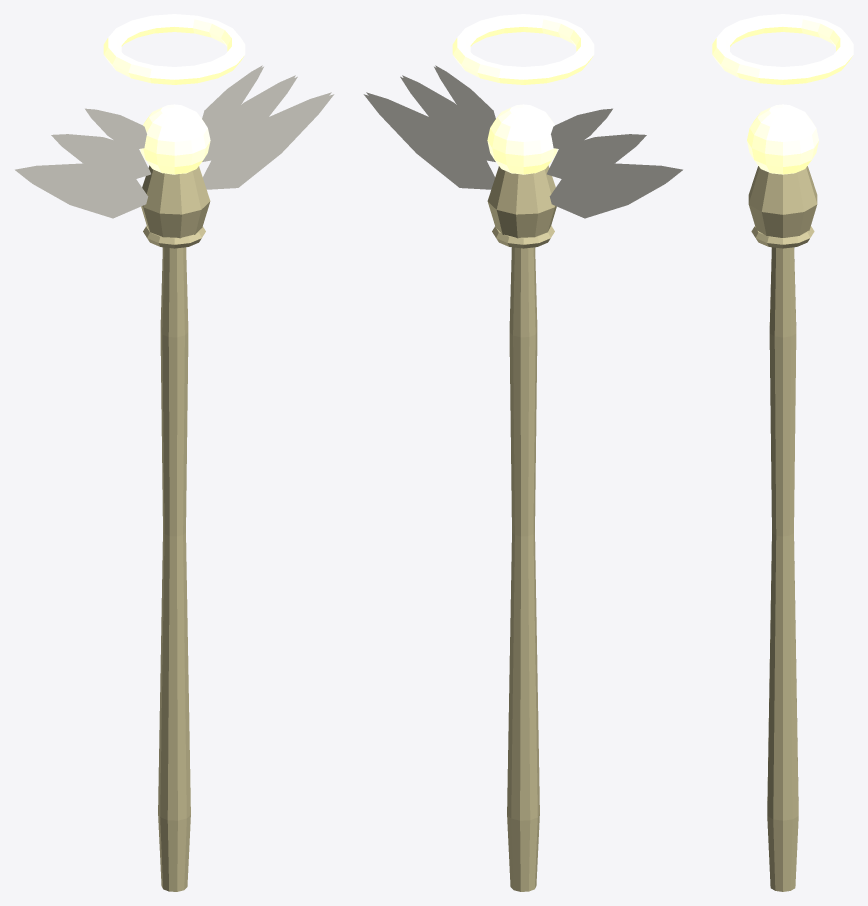
The model's file is staff_angel.glb.
3 views of the same model, side by side, from view 1: azimuth 30°, elevation 25°; view 2: azimuth 150°, elevation 25°; view 3: azimuth 270°, elevation 25° (orthographic).
Visible parts, largest first — view 1: Angel_Shaft, Angel_Halo, Angel_FeatherR0, Angel_FeatherL0, Angel_Cup, Angel_Core, Angel_FeatherL1, Angel_FeatherR1, Angel_FeatherR2, Angel_FeatherL2, Angel_Collar; view 2: Angel_Shaft, Angel_Halo, Angel_FeatherR0, Angel_FeatherL0, Angel_Cup, Angel_Core, Angel_FeatherL1, Angel_FeatherR1, Angel_FeatherR2, Angel_FeatherL2, Angel_Collar; view 3: Angel_Shaft, Angel_Halo, Angel_Cup, Angel_Core, Angel_Collar.
Part boxes in pixels (x1,y1,x2,y2): Angel_Shaft: (158,247,190,891); Angel_Halo: (103,14,245,84); Angel_FeatherR0: (203,92,334,189); Angel_FeatherL0: (15,163,148,218); Angel_Cup: (141,165,210,238); Angel_Core: (140,104,210,174); Angel_FeatherL1: (51,134,150,178); Angel_FeatherR1: (202,75,297,161); Angel_FeatherR2: (202,65,263,131); Angel_FeatherL2: (85,108,146,148); Angel_Collar: (143,225,205,248); Angel_Shaft: (507,247,539,891); Angel_Halo: (452,14,594,84); Angel_FeatherR0: (363,92,494,189); Angel_FeatherL0: (549,163,682,218); Angel_Cup: (487,165,556,238); Angel_Core: (487,104,557,174); Angel_FeatherL1: (547,134,646,178); Angel_FeatherR1: (400,75,495,161); Angel_FeatherR2: (434,65,495,131); Angel_FeatherL2: (551,108,612,148); Angel_Collar: (492,225,554,248); Angel_Shaft: (767,247,798,891); Angel_Halo: (712,14,853,84); Angel_Cup: (748,166,817,237); Angel_Core: (747,104,818,174); Angel_Collar: (751,226,814,248).
Size of the model in its own units: 0.7307 by 1.86 by 0.2817.
